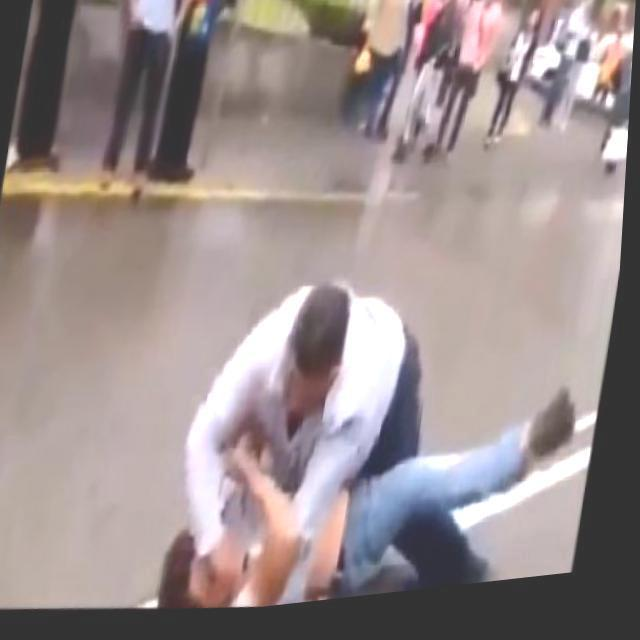fight: (144, 227, 613, 625)
